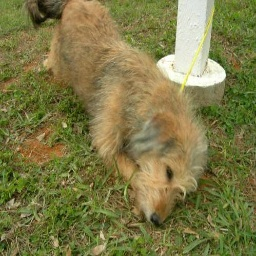dog: (27, 1, 215, 231)
